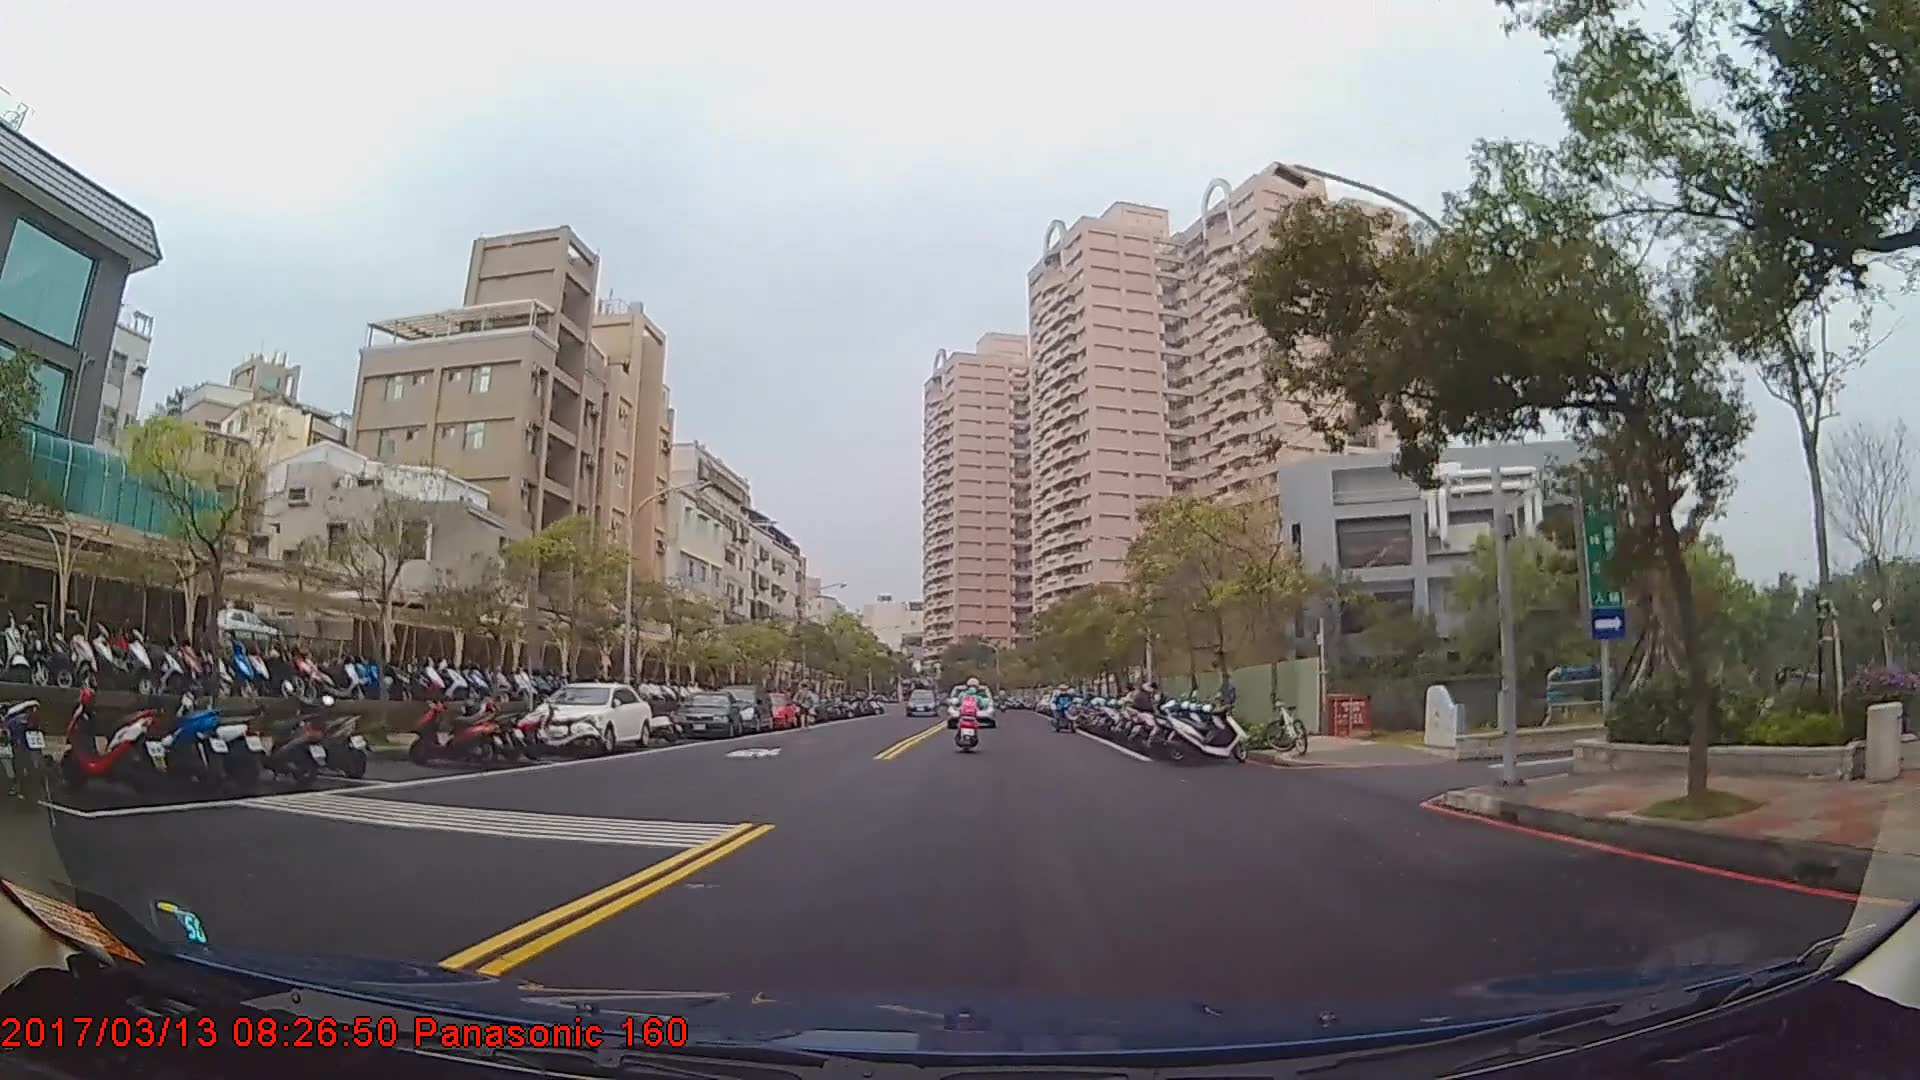pedestrian: (1216, 673, 1239, 731), (794, 684, 817, 733)
rider: (958, 674, 987, 746), (1053, 683, 1077, 731)
vehicle: (529, 679, 652, 750), (671, 688, 740, 737), (712, 682, 774, 732), (945, 683, 995, 729), (905, 688, 938, 715)
